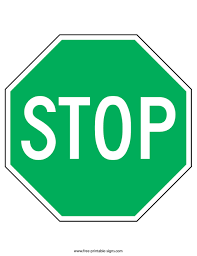SS: (7, 36, 192, 228)
